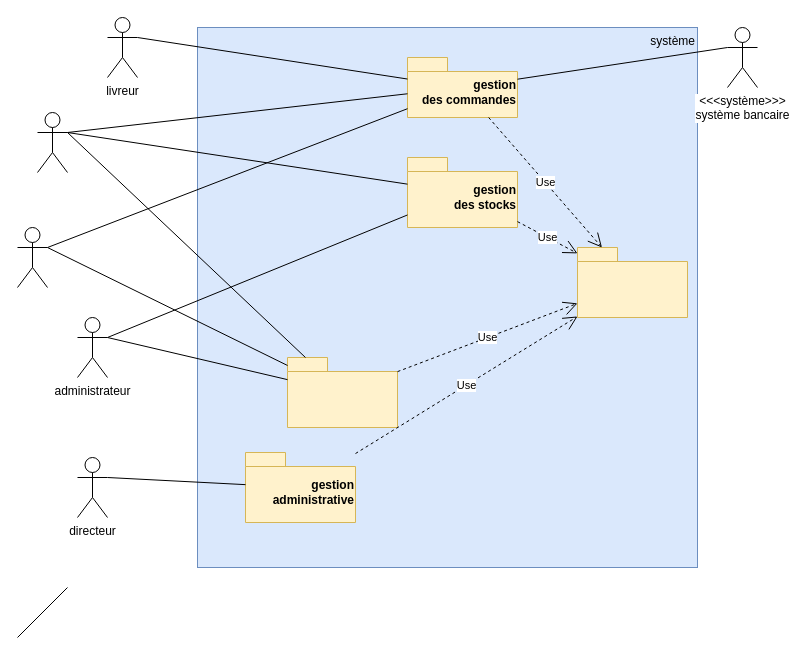
This 807x656 diagram has some shape labels left out. Here are the shapes that lost their labels. From the top down, the centre of each, then its label:
At [52,142]: "pizzaïolo".
At [32,257]: "client".
At [632,282]: "autentification".
At [342,392]: "gestion des recettes".
